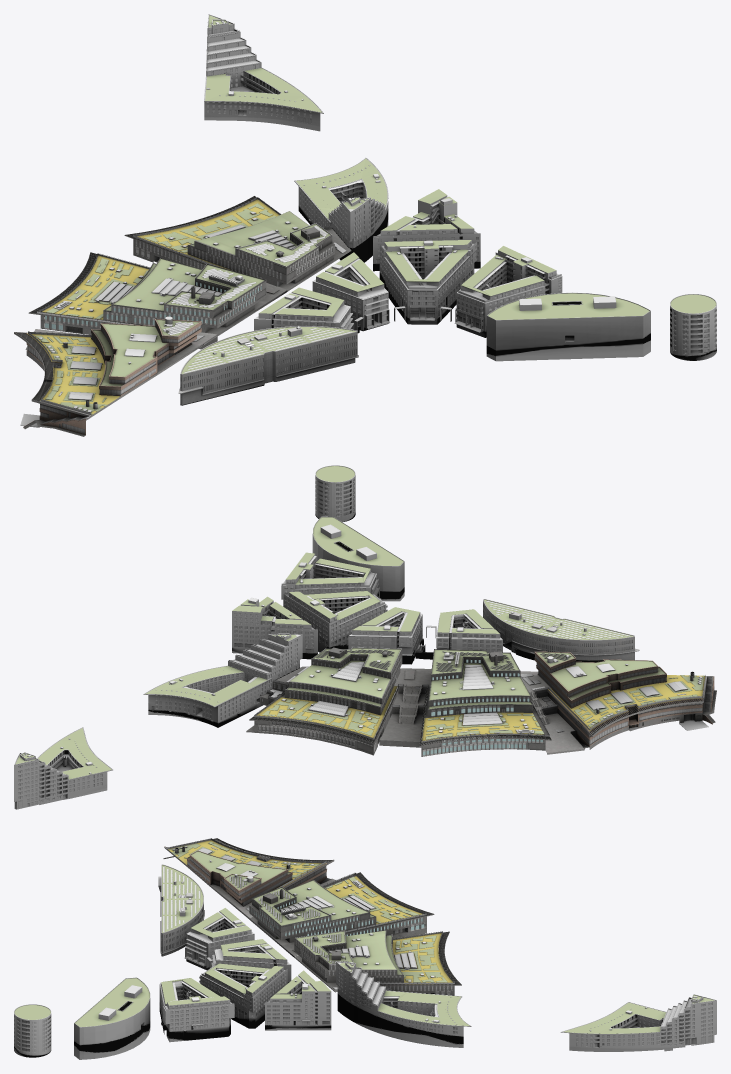
Rendered from buildings.glb.
3 views of the same model, one above another, from view 1: azimuth 30°, elevation 25°; view 2: azimuth 150°, elevation 25°; view 3: azimuth 270°, elevation 25° (orthographic). The views are drawn at different scales.
Parts seen in each view (by area): view 1: L1_300_V_020000, A2_400_V_0100000, L1_300_V_040000, A2_400_V_1000000, A2_400_V_0300000, A2_40_V_010000, A1_40_V_160000, A2_40_V_090000, A1_40V_12000, A3_40_V_150000, A1_40_V_170002, A3_40_V_130000 (+2 smaller); view 2: A2_400_V_0100000, L1_300_V_020000, L1_300_V_040000, A2_40_V_090000, A2_400_V_0300000, A2_40_V_010000, A2_400_V_1000000, A1_40_V_160000, A1_40_V_170002, A1_40V_12000, A3_40_V_150000, A3_40_V_140000 (+2 smaller); view 3: L1_300_V_020000, L1_300_V_040000, A2_40_V_090000, A2_40_V_010000, A2_400_V_0100000, A2_400_V_1000000, A1_40V_12000, A1_40_V_160000, A1_40_V_170002, A2_400_V_0300000, A3_40_V_140000, A3_40_V_130000 (+2 smaller).
Boxes of the visible parts, x1,y1,x2,y2 form: L1_300_V_020000: (28,252,287,349); A2_400_V_0100000: (14,316,217,436); L1_300_V_040000: (124,196,351,291); A2_400_V_1000000: (486,292,650,361); A2_400_V_0300000: (178,326,358,405); A2_40_V_010000: (204,14,323,131); A1_40_V_160000: (379,240,476,324); A2_40_V_090000: (294,157,388,262); A1_40V_12000: (440,246,562,337); A3_40_V_150000: (312,252,405,333); A1_40_V_170002: (373,189,480,271); A3_40_V_130000: (670,294,716,360); A2_400_V_0100000: (520,651,716,754); L1_300_V_020000: (379,649,551,756); L1_300_V_040000: (246,647,402,755); A2_40_V_090000: (143,633,302,727); A2_400_V_0300000: (483,599,639,662); A2_40_V_010000: (14,727,112,809); A2_400_V_1000000: (312,516,404,601); A1_40_V_160000: (283,591,387,652); A1_40_V_170002: (232,596,317,659); A1_40V_12000: (281,552,381,606); A3_40_V_150000: (348,607,436,664); A3_40_V_140000: (426,609,502,652); L1_300_V_020000: (249,872,434,957); L1_300_V_040000: (294,930,461,995); A2_40_V_090000: (336,961,471,1047); A2_40_V_010000: (560,994,716,1051); A2_400_V_0100000: (163,838,335,918); A2_400_V_1000000: (74,977,150,1059); A1_40V_12000: (159,978,234,1042); A1_40_V_160000: (199,963,287,1028); A1_40_V_170002: (265,970,331,1030); A2_400_V_0300000: (158,864,204,956); A3_40_V_140000: (184,908,254,970); A3_40_V_130000: (14,1004,51,1057).
Size of what is drawn, in the model's own units: 333 by 41.27 by 442.
Materials: 14 (13 with a texture image).
